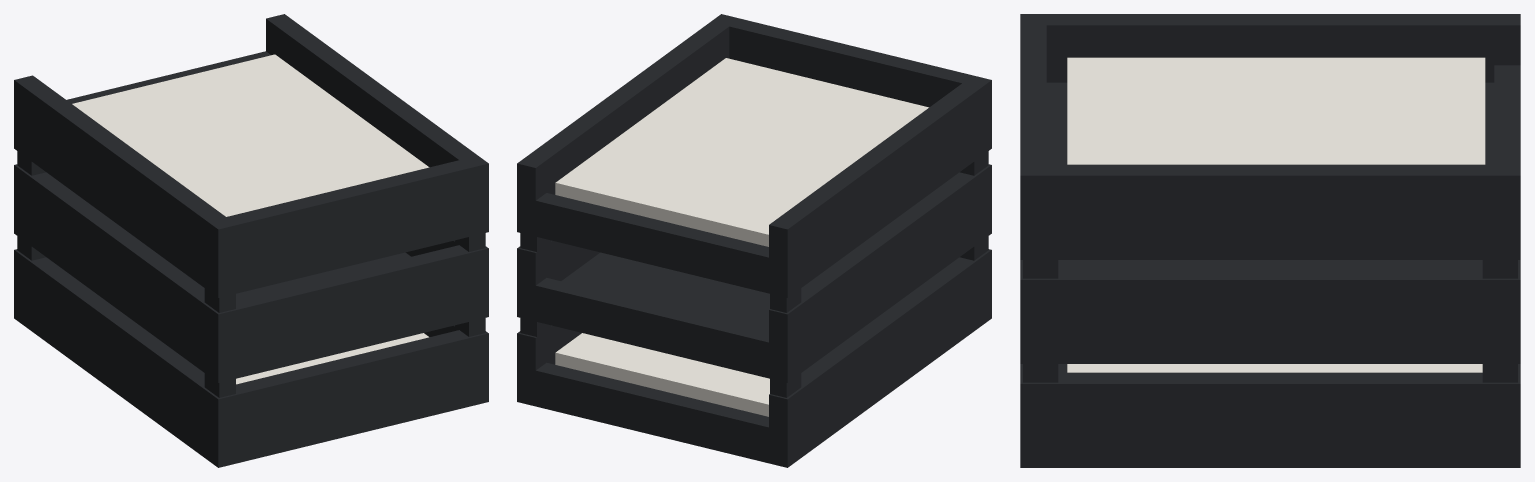
The model's file is SM_LPI_Office_DocumentTray_01.fbx.
3 renders of one model, left to right at view 1: azimuth 30°, elevation 25°; view 2: azimuth 150°, elevation 25°; view 3: azimuth 270°, elevation 25°, orthographic. The views are drawn at different scales.
Visible parts, largest first — view 1: SM_LPI_Office_DocumentTray_01; view 2: SM_LPI_Office_DocumentTray_01; view 3: SM_LPI_Office_DocumentTray_01.
Part boxes in pixels (box(x1,y1,x2,y2)): SM_LPI_Office_DocumentTray_01: box(14, 14, 488, 467); SM_LPI_Office_DocumentTray_01: box(517, 14, 991, 467); SM_LPI_Office_DocumentTray_01: box(1020, 14, 1520, 467).
Bounding box in the file's own units: 0.26 × 0.219 × 0.34.
